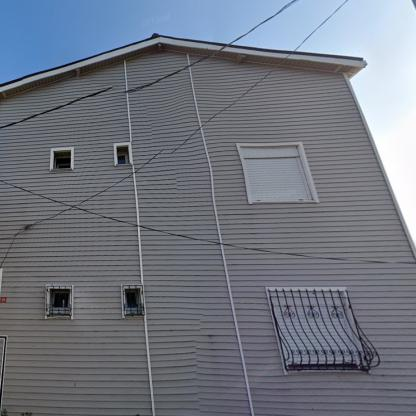window: (269, 294, 358, 368), (241, 146, 313, 200), (52, 292, 69, 310), (53, 153, 72, 168), (125, 290, 138, 309), (118, 154, 127, 164)
